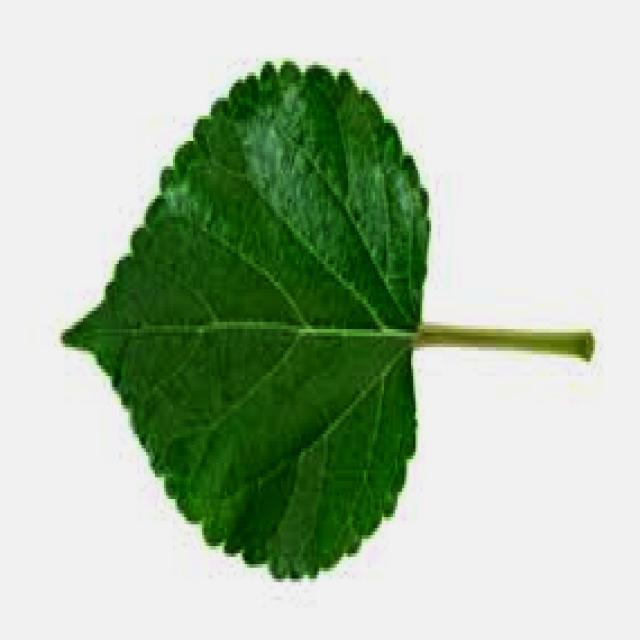leaf: (60, 57, 432, 582)
